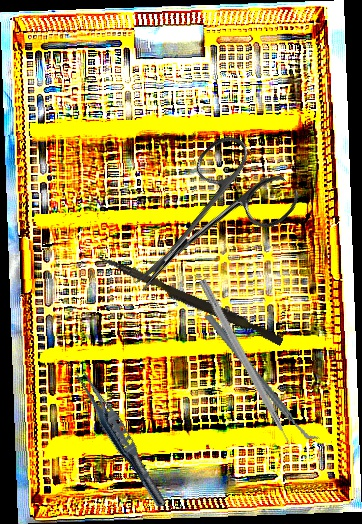Chopper: (188, 278, 299, 461), (204, 294, 320, 461)
Iris Scissors: (103, 124, 305, 327)
Pusher: (94, 254, 286, 346)
Tissue Forceps: (67, 362, 173, 511)
